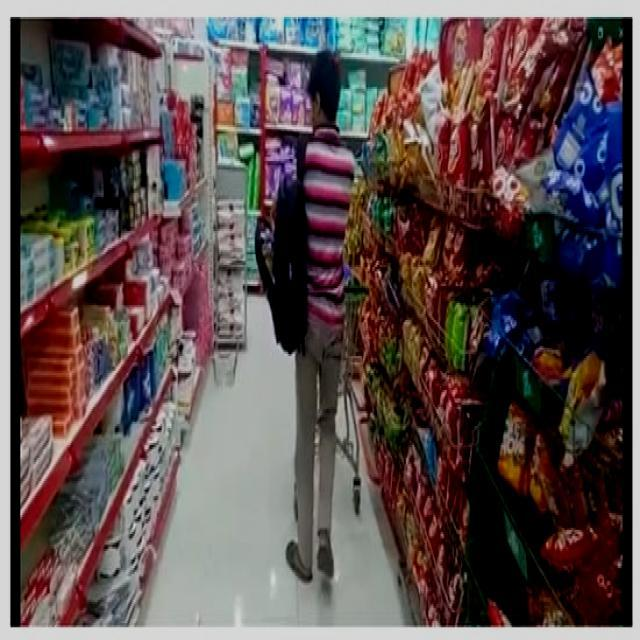Normal: (249, 33, 402, 589)
